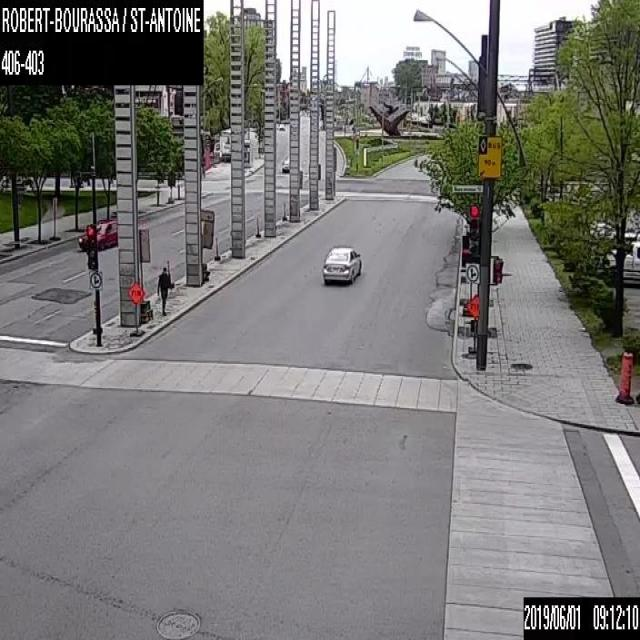construction: (137, 227, 152, 321), (126, 280, 144, 337), (200, 207, 214, 280), (615, 351, 633, 404), (465, 292, 478, 360)
pedestrian: (154, 264, 174, 316)
vehicle: (321, 242, 360, 282), (605, 240, 639, 282), (78, 219, 116, 249), (281, 152, 289, 171), (278, 122, 284, 130)
